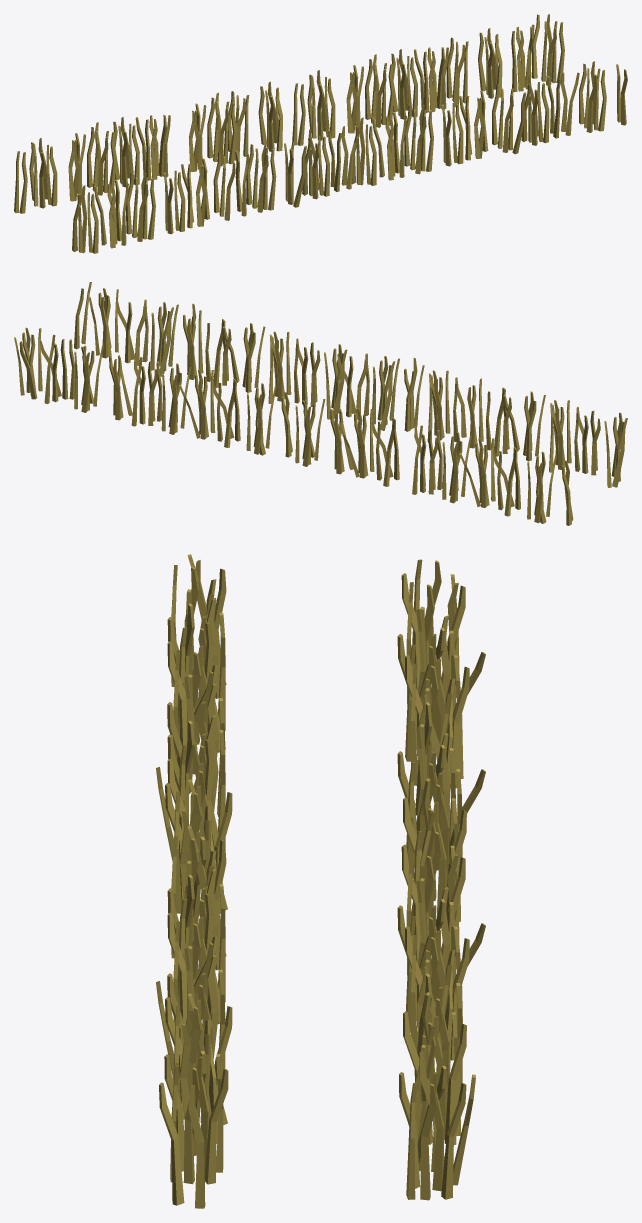
Rendered from Farm_FirstAge_Level1_Wheat.glb.
3 renders of one model, top to bottom at view 1: azimuth 30°, elevation 25°; view 2: azimuth 150°, elevation 25°; view 3: azimuth 270°, elevation 25°, orthographic. The views are drawn at different scales.
Visible parts, largest first — view 1: Farm_FirstAge_Level1_Wheat; view 2: Farm_FirstAge_Level1_Wheat; view 3: Farm_FirstAge_Level1_Wheat.
Boxes of the visible parts, bbox=[...] form: Farm_FirstAge_Level1_Wheat: bbox=[14, 14, 627, 253]; Farm_FirstAge_Level1_Wheat: bbox=[14, 282, 627, 525]; Farm_FirstAge_Level1_Wheat: bbox=[156, 554, 485, 1208].
Bounding box in the file's own units: 1.6 × 0.1856 × 0.4164.
